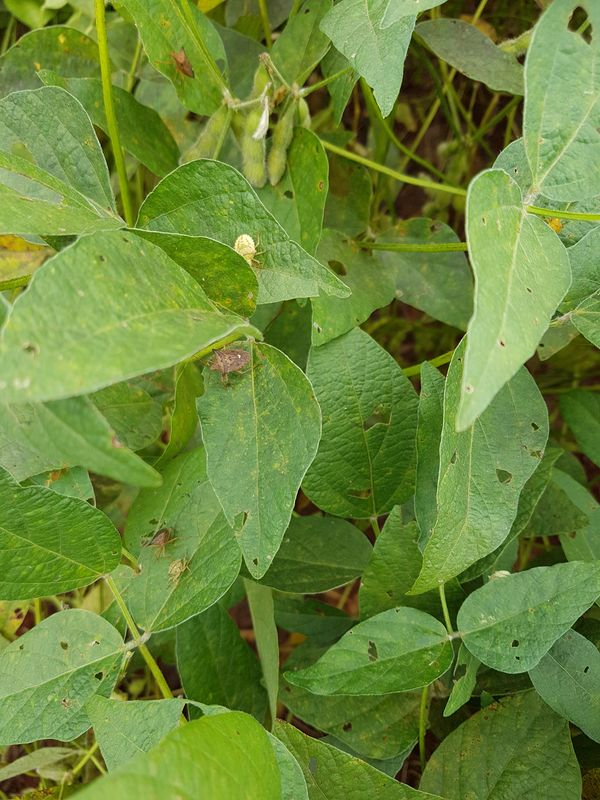Euschistus_heros_adulto: (198, 339, 264, 393), (152, 40, 203, 92), (138, 522, 177, 556)
Euschistus_heros_ninfa: (227, 230, 269, 271), (160, 554, 197, 589), (540, 211, 568, 240)
